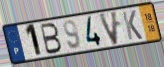1: (24, 23, 44, 58)
4: (85, 15, 103, 49)
9: (63, 19, 83, 51)
B: (39, 22, 63, 56)
K: (121, 10, 144, 42)
V: (97, 9, 121, 48)
